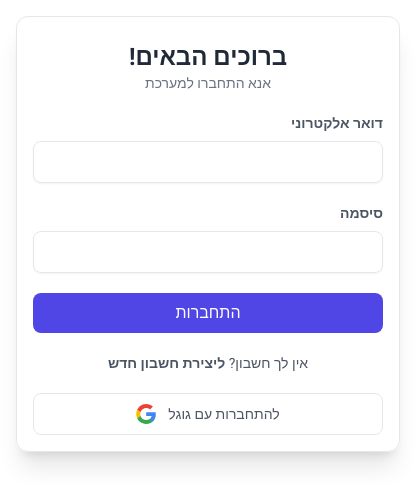
LoginForm › disables buttons while logging in
In the field labelled "דואר אלקטרוני": (208, 162) [33,141,383,183], type "test@example.com"
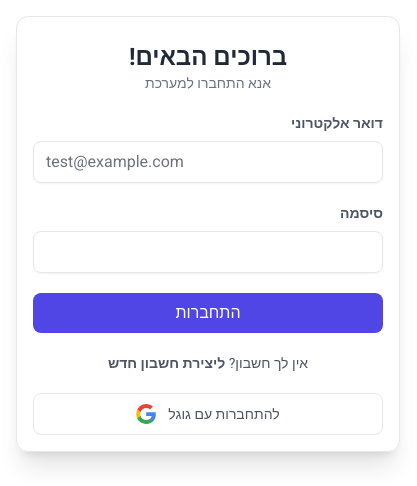
In the password field labelled "סיסמה": (208, 252) [33,231,383,273], type "Password123"
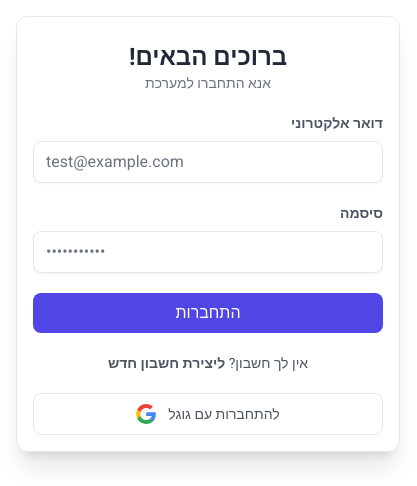
Click the button with test id "email-login-button": (208, 313) [33,293,383,333]
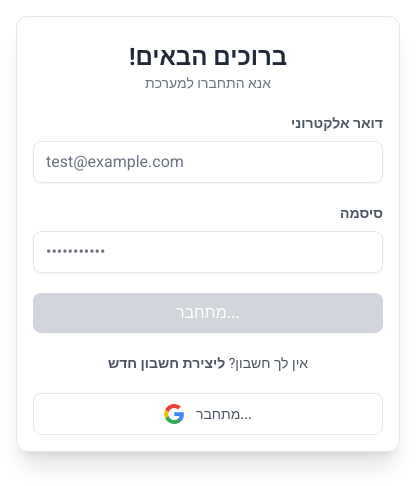
Now the button with test id "email-login-button" is disabled, box [33,293,383,333]
Now the button with test id "email-login-button" reads "מתחבר...", box [33,293,383,333]
Now the button with test id "google-login-button" is disabled, box [33,393,383,435]
